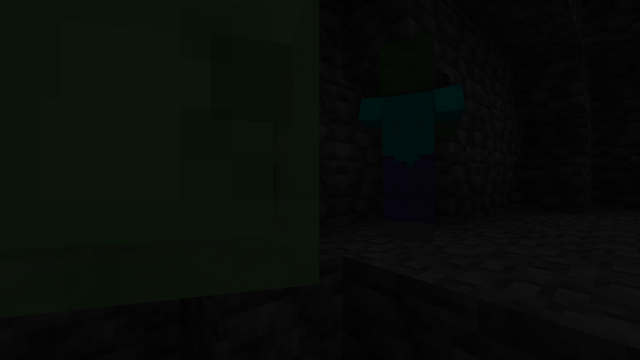slimes: (12, 1, 349, 323)
zombies: (368, 33, 449, 247)
